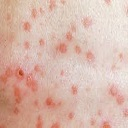Chickenpox: (2, 12, 94, 109)
